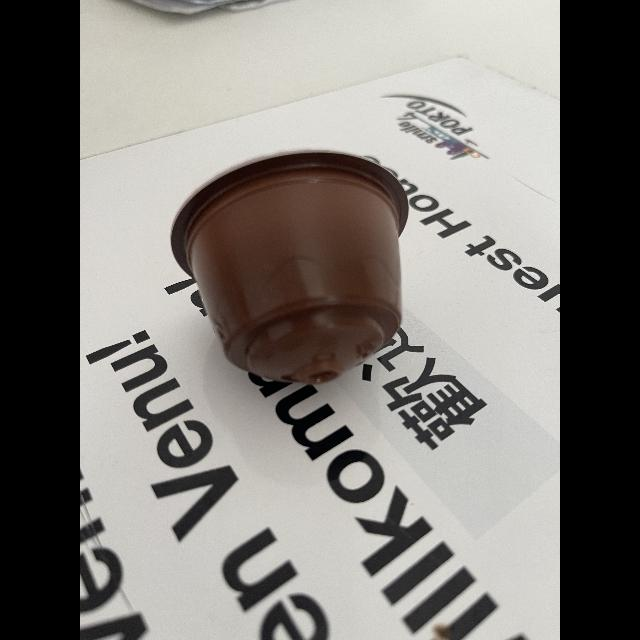intact_capsule: (164, 145, 434, 403)
